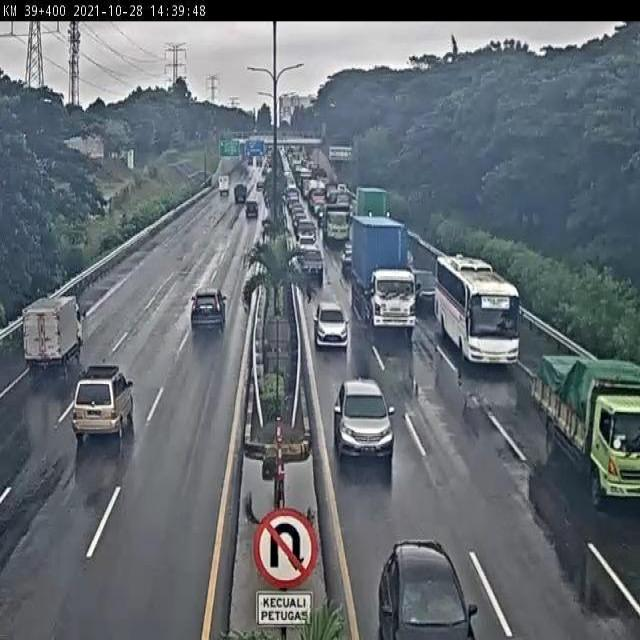big bus: (431, 245, 524, 375)
big truck: (346, 210, 422, 342), (353, 181, 390, 224)
car: (371, 534, 484, 640), (67, 356, 139, 451), (329, 373, 396, 468), (187, 283, 229, 337), (312, 297, 350, 352), (407, 264, 438, 309), (298, 244, 325, 281), (230, 178, 250, 210), (297, 230, 319, 254), (243, 199, 263, 225), (296, 222, 318, 242), (254, 178, 268, 198)
mid truck: (528, 349, 640, 512), (320, 201, 354, 244)
small truck: (17, 282, 89, 378), (215, 171, 233, 200)
